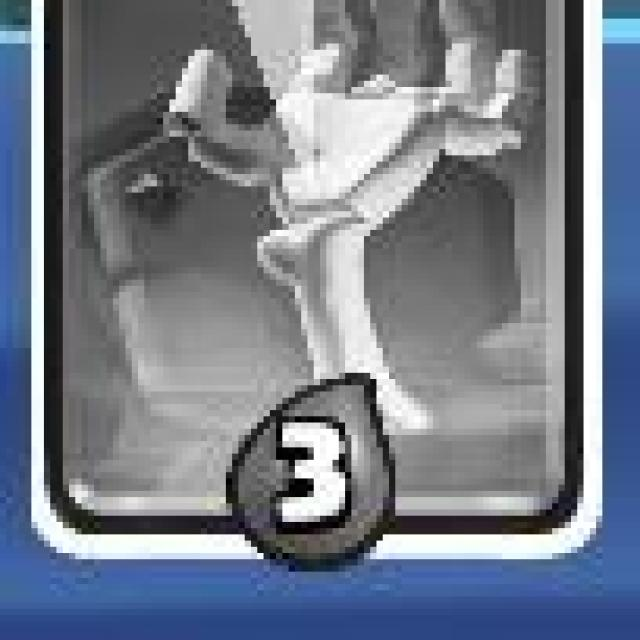Tombstone: (28, 0, 606, 556)
